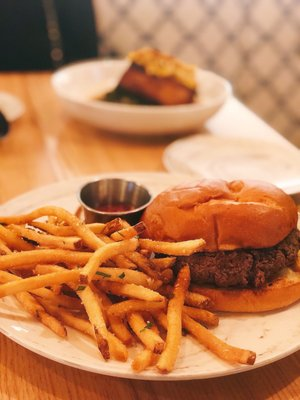sushi: (49, 49, 233, 141), (79, 178, 151, 225)
